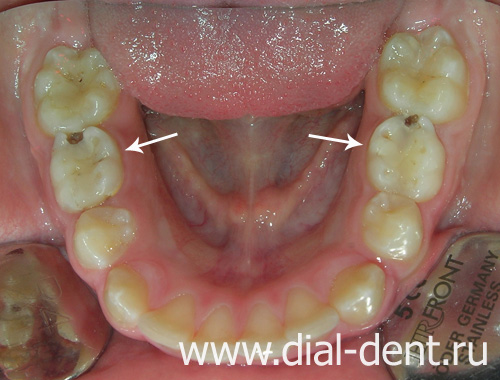LL1BC_healthy: (372, 196, 424, 258)
LL1M_healthy: (379, 25, 468, 120)
LL2BC_decay: (367, 116, 444, 199)
LLCI_healthy: (243, 304, 287, 354)
LLC_healthy: (336, 263, 384, 324)
LLLI_healthy: (288, 284, 338, 337)
LR1BC_healthy: (74, 210, 136, 267)
LR1M_healthy: (36, 49, 120, 128)
LR2BC_decay: (51, 131, 124, 204)
LRCI_healthy: (201, 307, 238, 364)
LRC_healthy: (105, 267, 151, 326)
LRLI_healthy: (147, 298, 195, 351)
